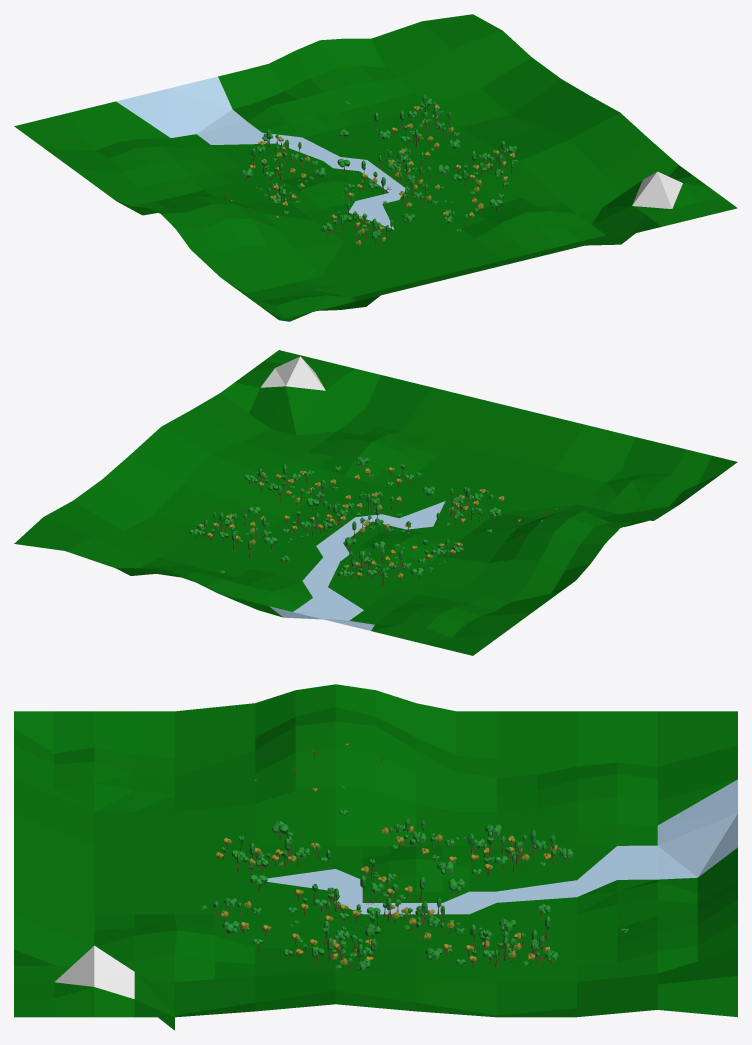
Rendered from Forest.fbx.
3 renders of one model, top to bottom at view 1: azimuth 30°, elevation 25°; view 2: azimuth 150°, elevation 25°; view 3: azimuth 270°, elevation 25°, orthographic. The views are drawn at different scales.
Visible parts, largest first — view 1: Plane; view 2: Plane; view 3: Plane.
Boxes of the visible parts, x1,y1,x2,y2 form: Plane: (14, 14, 737, 321); Plane: (14, 350, 737, 655); Plane: (14, 684, 737, 1030).
Bounding box in the file's own units: 4091 × 443 × 4091.
